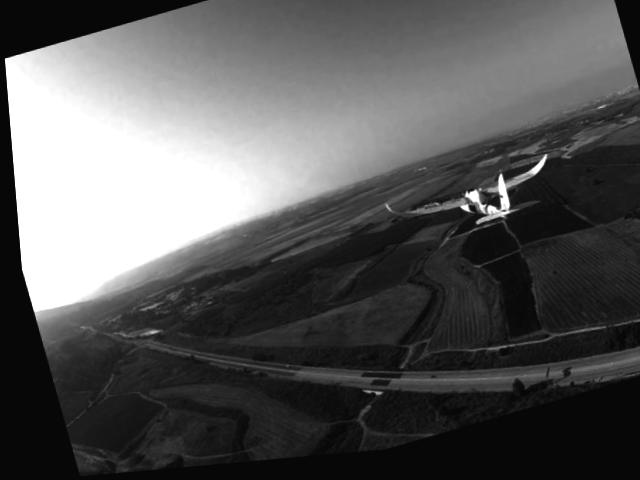hedef: (374, 157, 562, 260)
